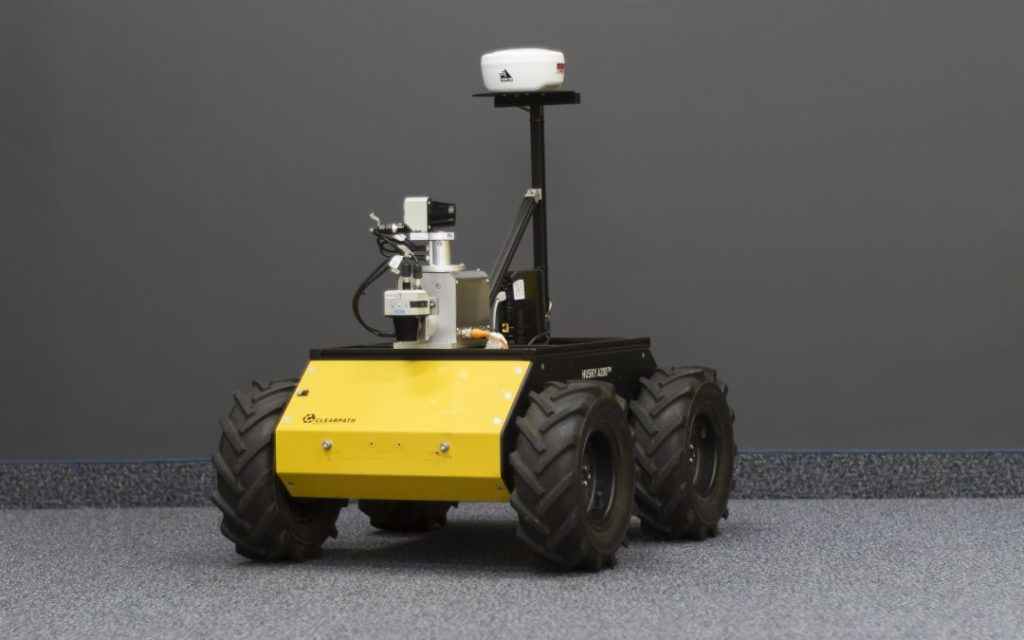husky: (207, 47, 739, 574)
